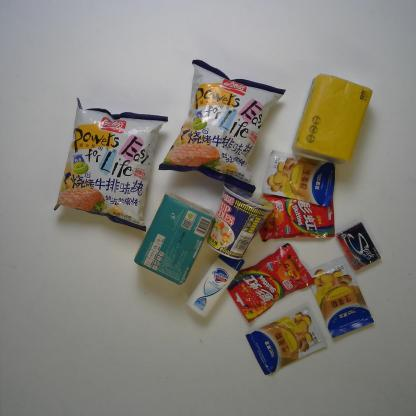Candy: (225, 238, 316, 324), (256, 190, 339, 241)
Gum: (333, 219, 383, 274)
Instant Noodles: (204, 180, 276, 263)
Personal Hygiene: (186, 250, 245, 322)
Puffed Food: (153, 56, 289, 198), (51, 93, 176, 233)
Seasoner: (244, 298, 329, 377), (304, 255, 377, 341), (258, 147, 339, 210)
Tissue: (131, 188, 217, 289), (292, 69, 375, 168)
